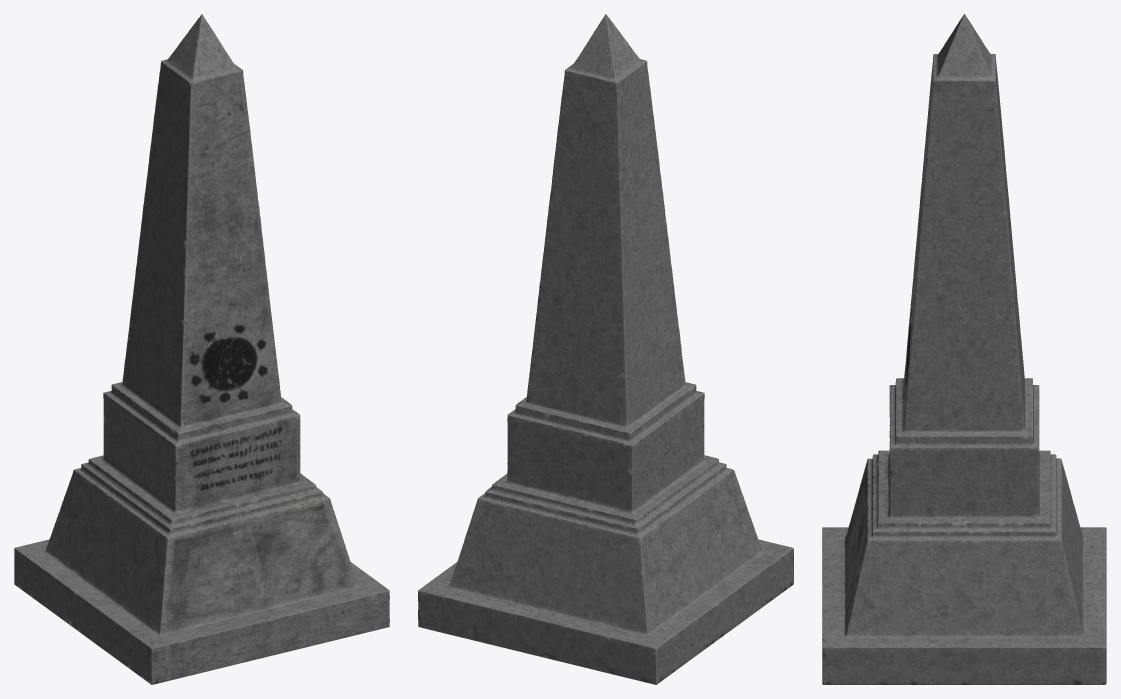
File: modelis.glb
The picture shows the model from 3 angles, left to right: view 1: azimuth 30°, elevation 25°; view 2: azimuth 150°, elevation 25°; view 3: azimuth 270°, elevation 25°; orthographic projection. The views are drawn at different scales.
Size of the model in its own units: 0.801 by 1.9 by 0.801.
1 material, 1 textured.
